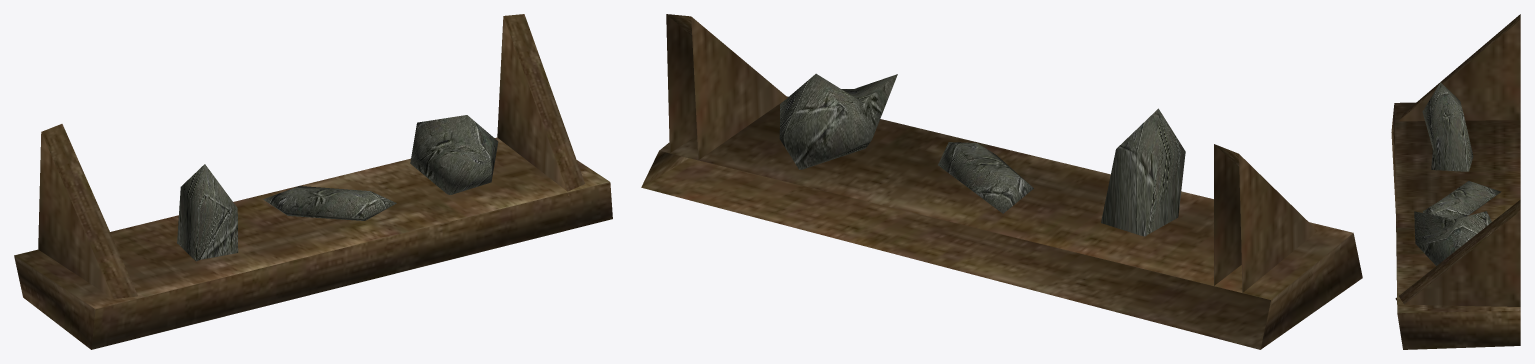
The model's file is NC_LOB_NICE.glb.
3 views of the same model, side by side, from view 1: azimuth 30°, elevation 25°; view 2: azimuth 150°, elevation 25°; view 3: azimuth 270°, elevation 25° (orthographic). The views are drawn at different scales.
Parts seen in each view (by area): view 1: Mesh; view 2: Mesh; view 3: Mesh.
Part boxes in pixels (left/top/right/bottom): Mesh: left=14, top=14, right=612, bottom=349; Mesh: left=641, top=14, right=1362, bottom=349; Mesh: left=1391, top=14, right=1520, bottom=349.
Size of the model in its own units: 1.76 by 0.5198 by 0.4435.
Materials: 2 (2 with a texture image).
